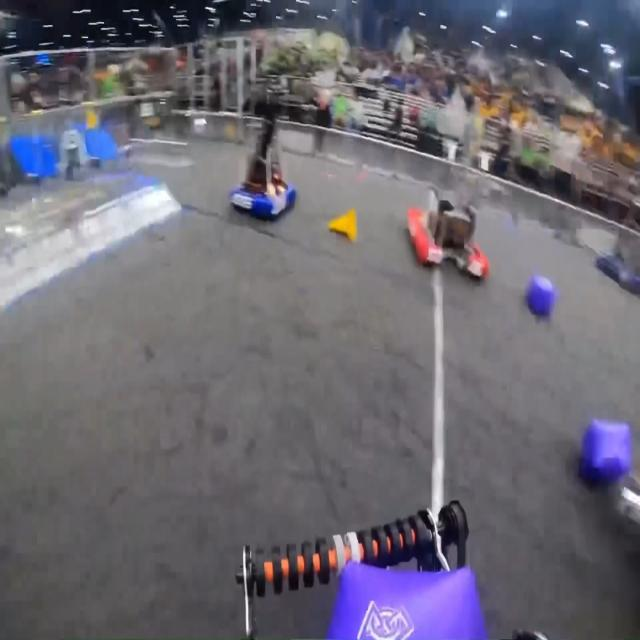robot: (229, 89, 297, 224), (406, 190, 491, 282), (596, 228, 640, 296)
